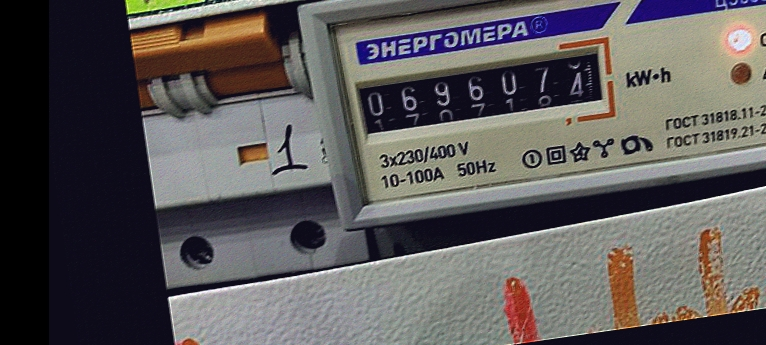0: (364, 86, 389, 117), (500, 64, 522, 96), (400, 82, 421, 110)
4: (567, 68, 588, 98)
6: (465, 69, 487, 102)
7: (532, 61, 554, 92)
9: (433, 76, 454, 106)
screen: (340, 31, 624, 153)
